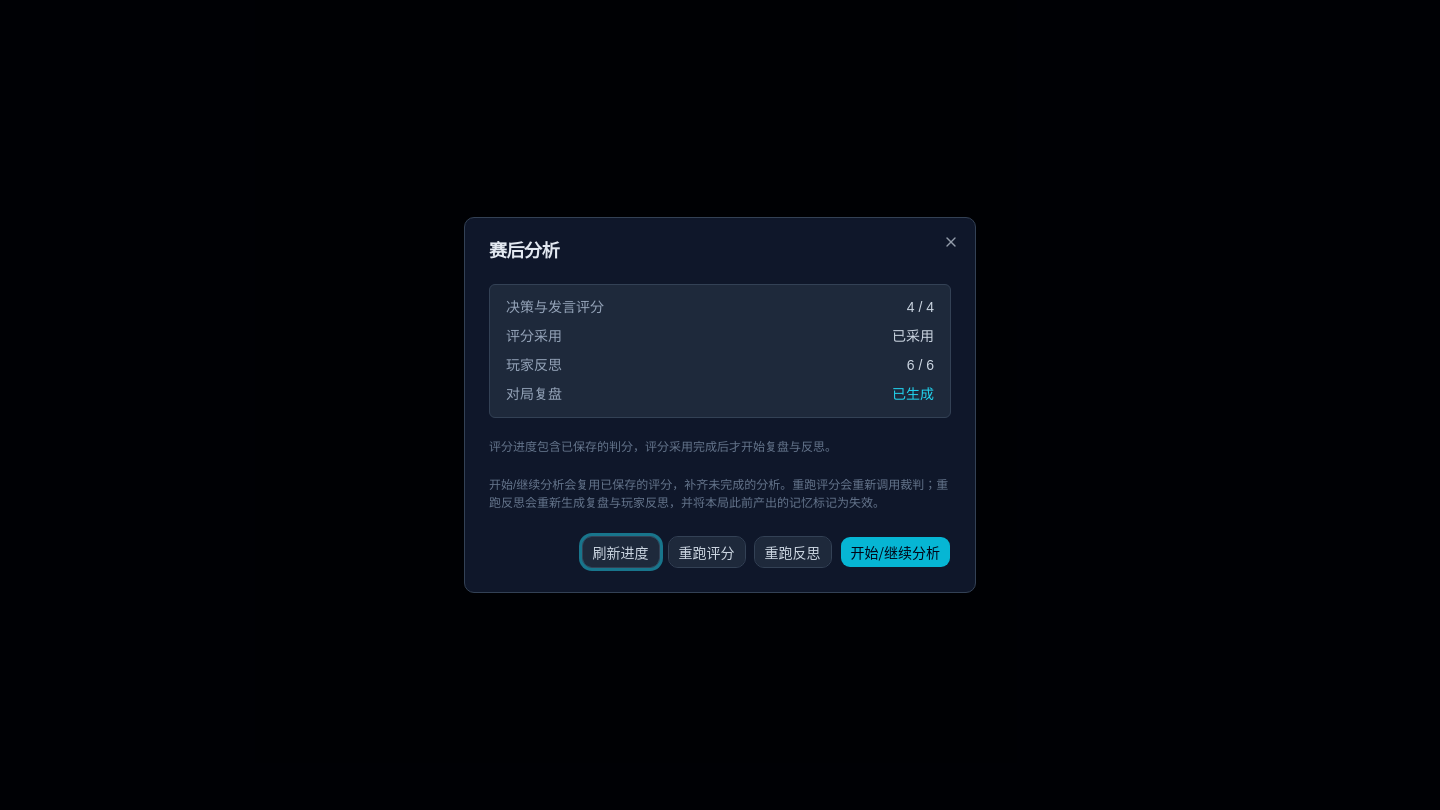
Test: AnalysisDialog › 开始或继续分析复用已有结果，投递后不立即用旧汇总显示完成
Expected: the text "4 / 4" is shown, x1=907 y1=297 x2=934 y2=318
Click the button "开始/继续分析" at (895, 552), box x1=840 y1=536 x2=951 y2=568
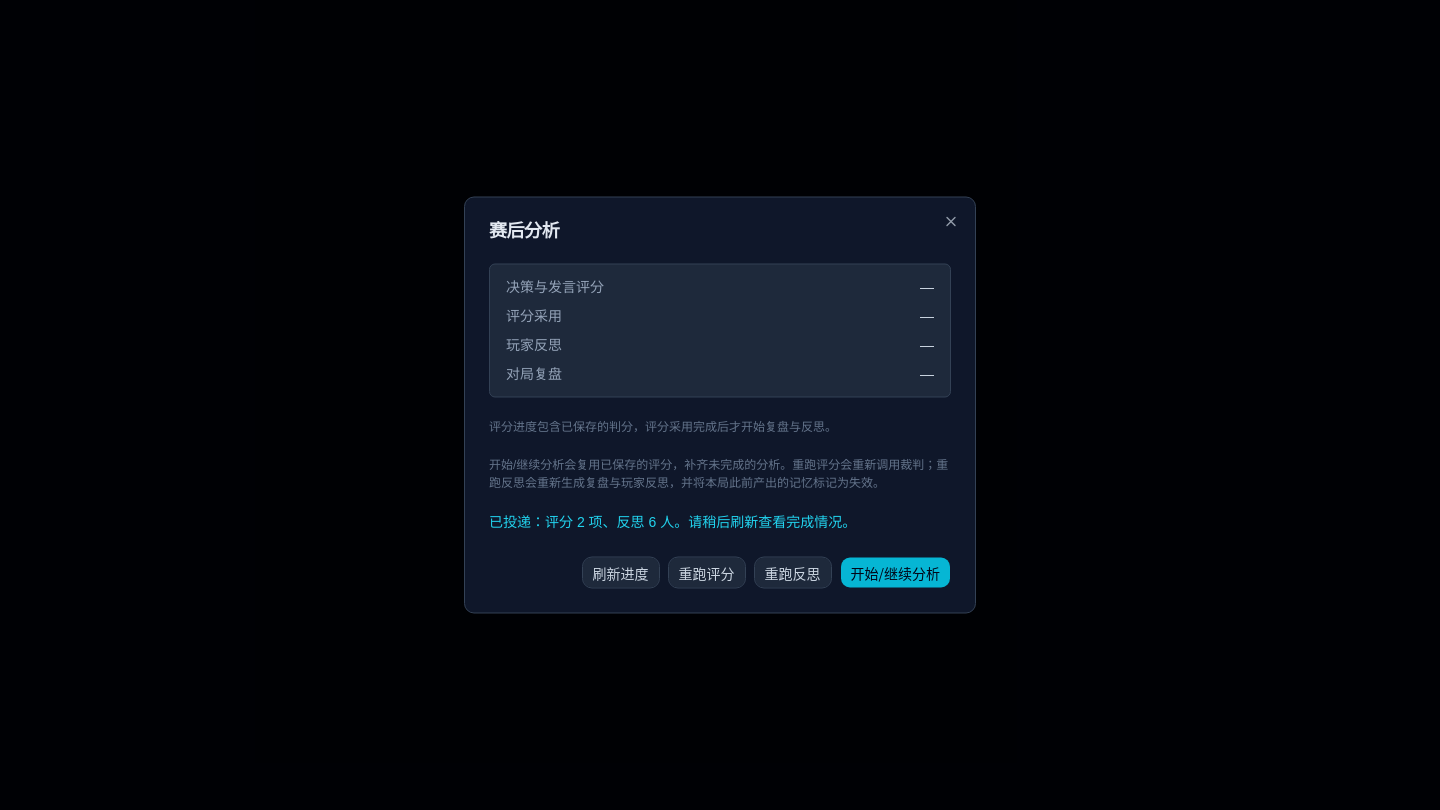
Expected: the text "—" is shown 4 times, x1=920 y1=276 x2=934 y2=298; x1=920 y1=306 x2=934 y2=326; x1=920 y1=334 x2=934 y2=356; x1=920 y1=364 x2=934 y2=384
Expected: the text "4 / 4" is gone
Expected: the text "已投递：评分 2 项、反思 6 人。请稍后刷新查看完成情况。" is shown, x1=489 y1=514 x2=856 y2=530
